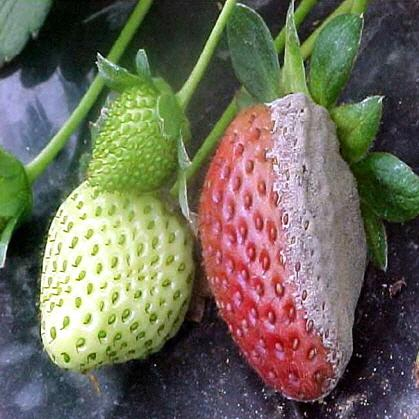Gray Mold: (254, 91, 368, 403)
